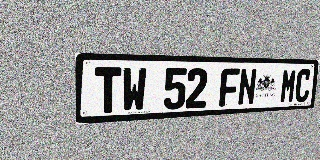2: (186, 68, 208, 109)
5: (164, 68, 187, 110)
C: (294, 69, 312, 103)
F: (219, 68, 240, 107)
M: (279, 69, 297, 103)
N: (237, 68, 257, 106)
T: (95, 67, 121, 114)
W: (122, 67, 147, 112)
